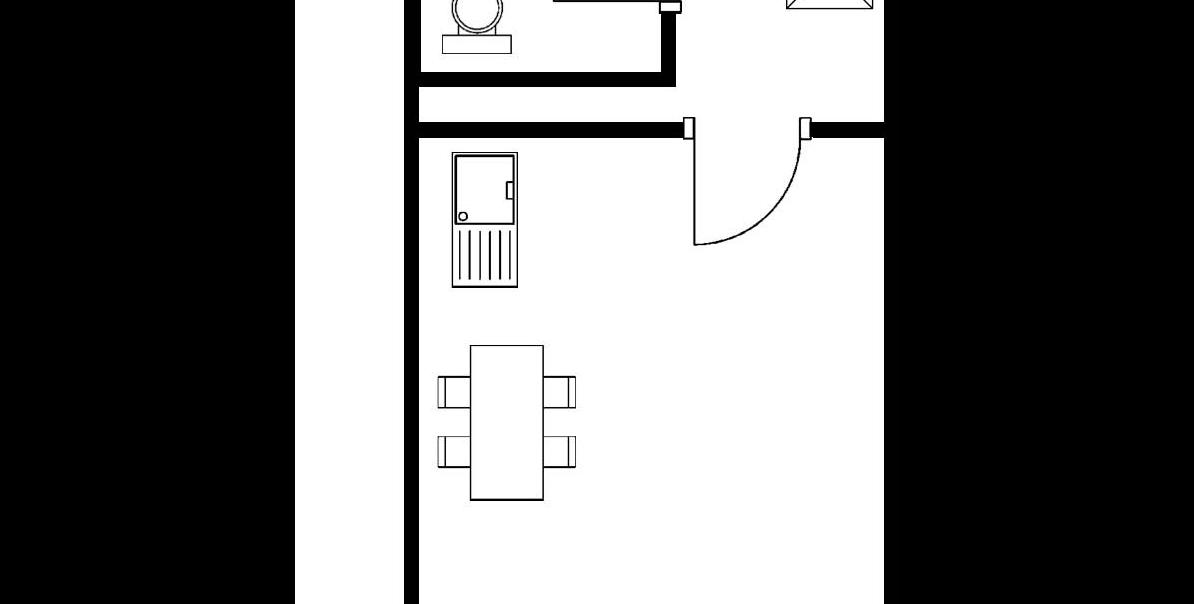dining_table: (431, 337, 585, 509)
sink: (441, 145, 525, 295)
toilet: (434, 0, 516, 61)
